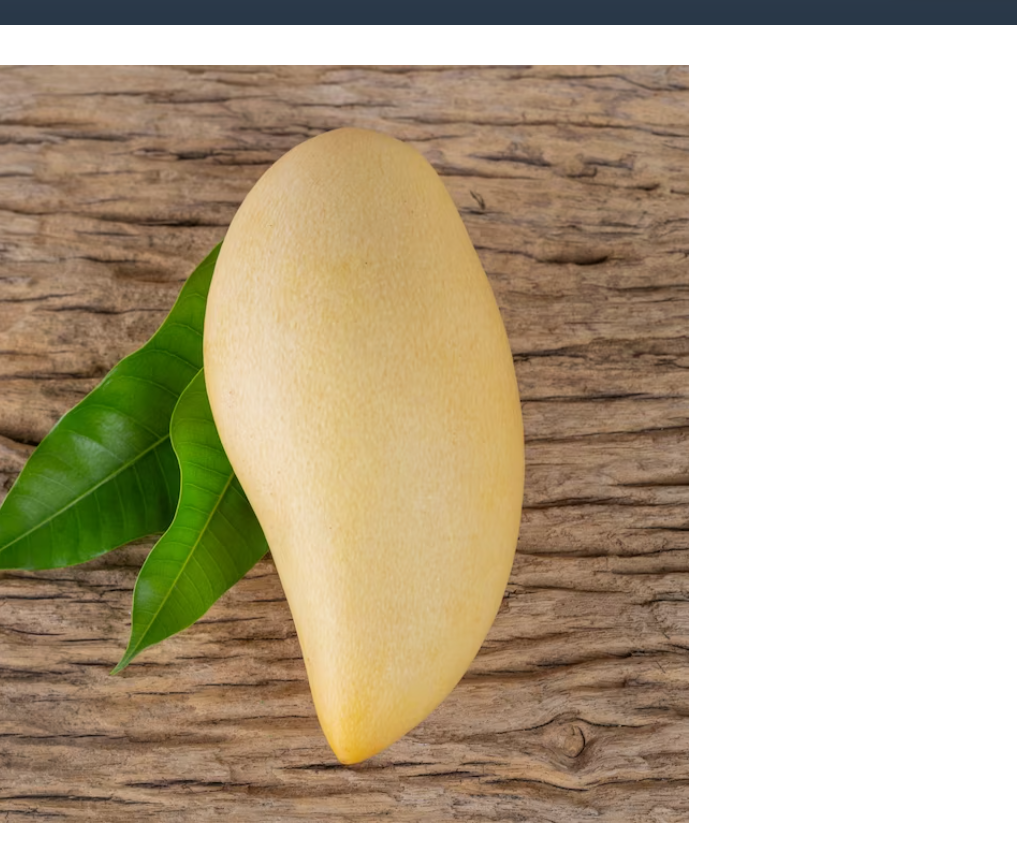mango: (197, 122, 525, 765)
